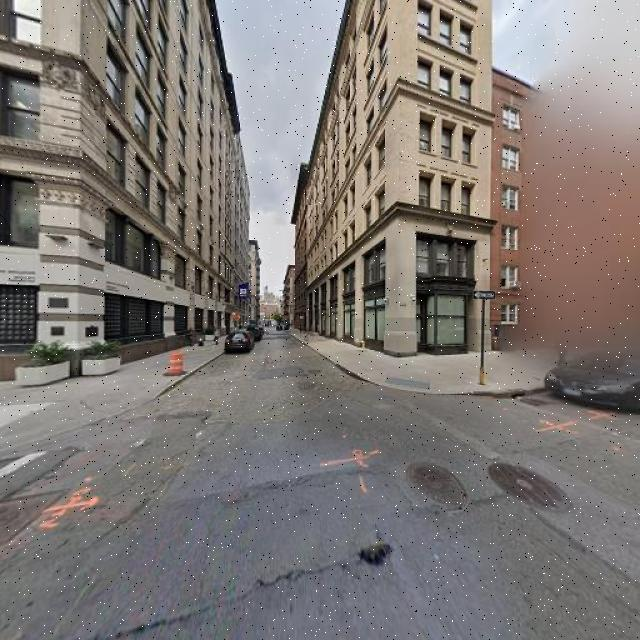Building: (1, 1, 228, 373), (323, 1, 492, 354)
